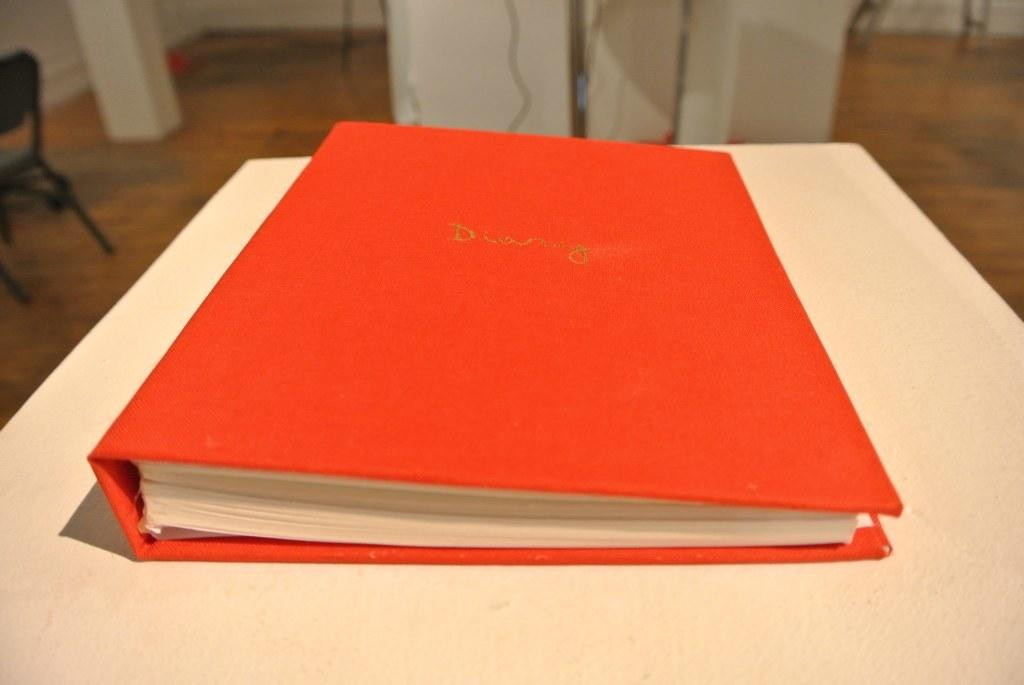book: (81, 115, 910, 565)
